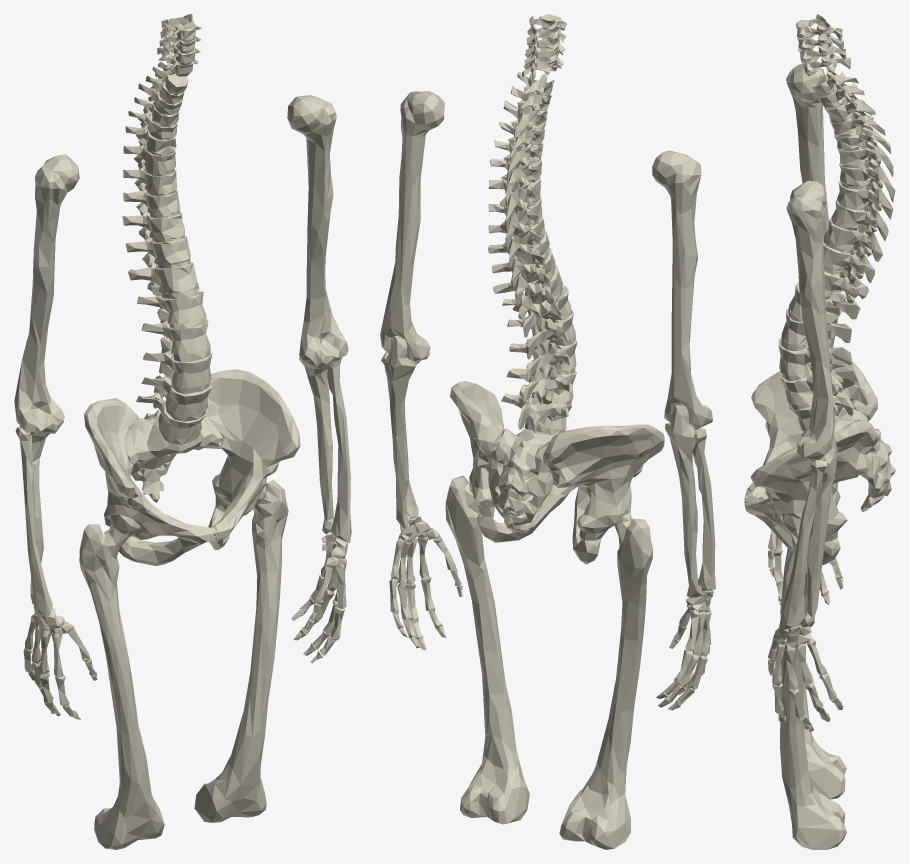
File: skelett_update_k.gltf
The picture shows the model from 3 angles, left to right: view 1: azimuth 30°, elevation 25°; view 2: azimuth 150°, elevation 25°; view 3: azimuth 270°, elevation 25°; orthographic projection. The views are drawn at different scales.
Visible parts, largest first — view 1: Object_5; view 2: Object_5; view 3: Object_5.
Part boxes in pixels (left/top/right/bottom): Object_5: left=14, top=14, right=351, bottom=849; Object_5: left=380, top=14, right=715, bottom=849; Object_5: left=744, top=14, right=895, bottom=849.
Bounding box in the file's own units: 1.88 × 4.49 × 0.7721.
